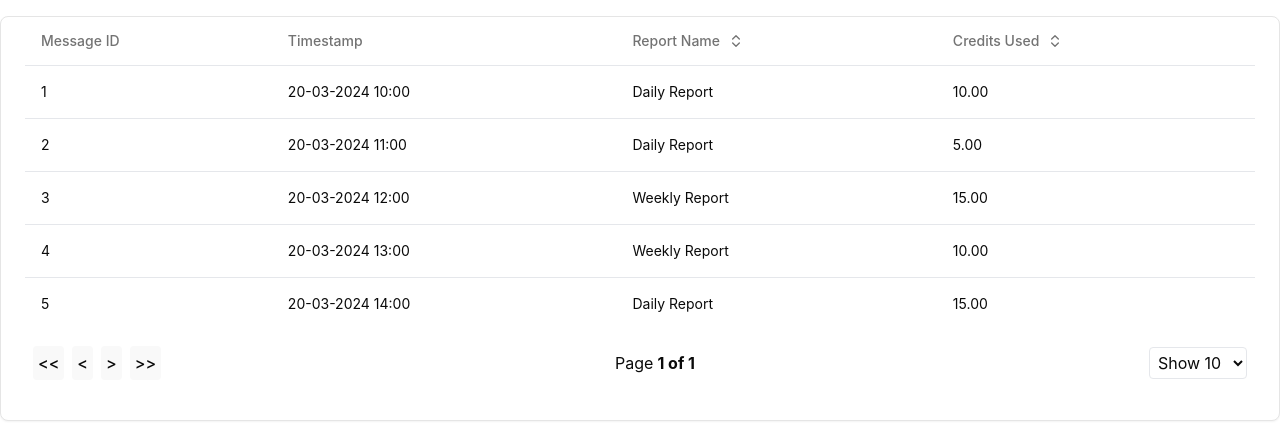
Test case: UsageTable Sorting › Single Column Sorting › sorts credits used column correctly
// Ascending sort
Click the text "Credits Used": (1008, 40) [953,32,1063,49]
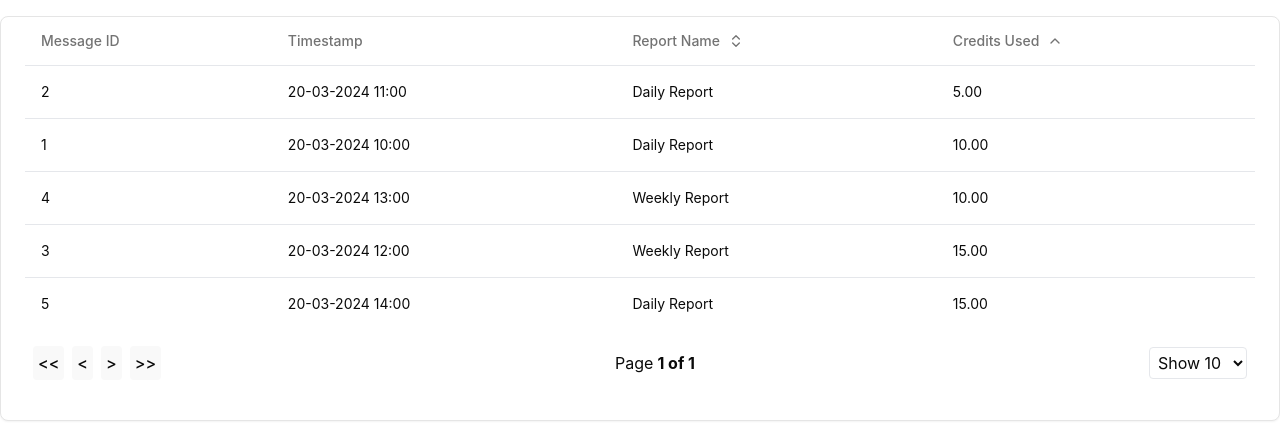
Result: the icon with test id "sort-asc" is shown at [1047,33,1063,49]
// Descending sort
Click the text "Credits Used": (1008, 40) [953,32,1063,49]
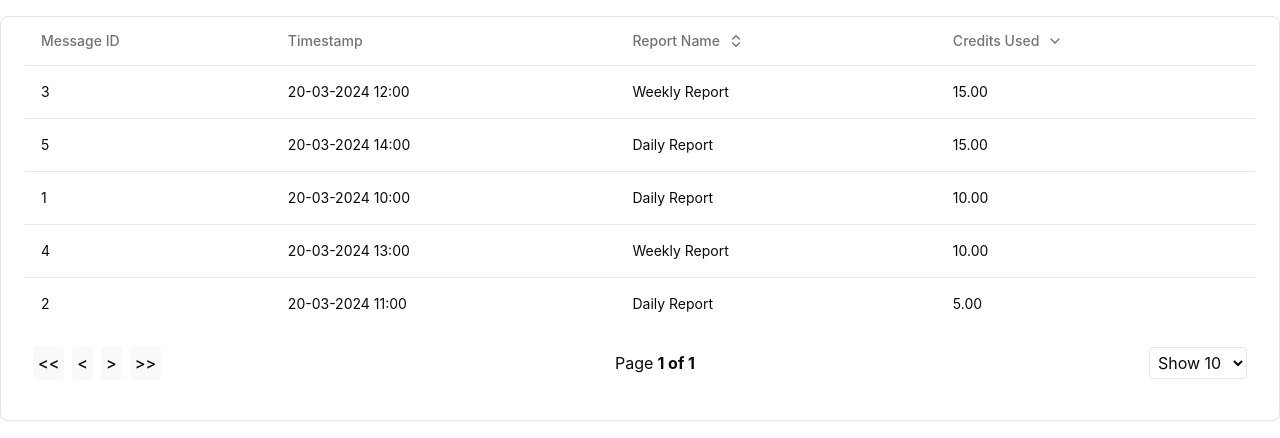
Result: the icon with test id "sort-desc" is shown at [1047,33,1063,49]
